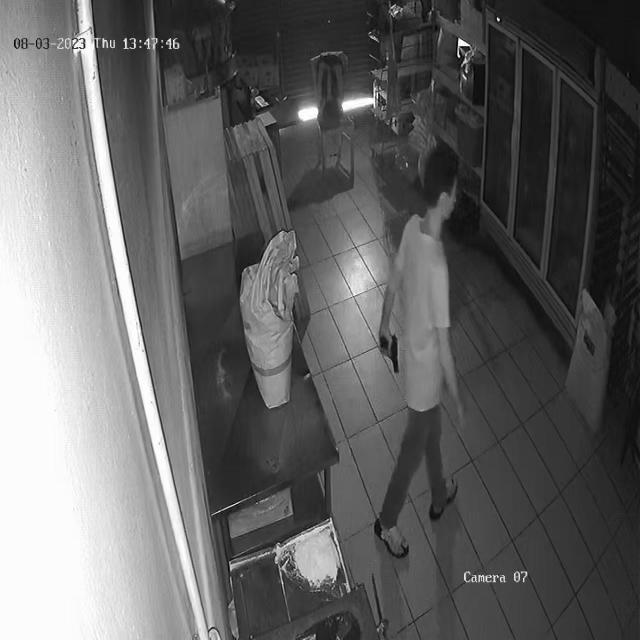Gun: (375, 325, 409, 381)
